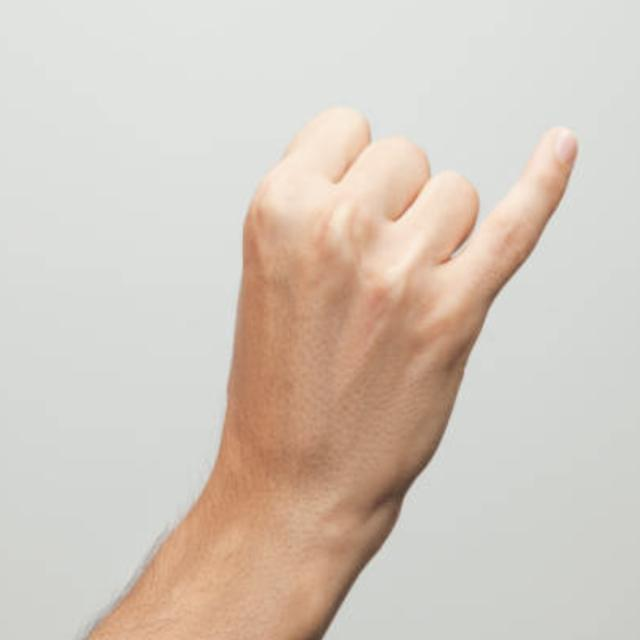pinky: (437, 114, 587, 312)
